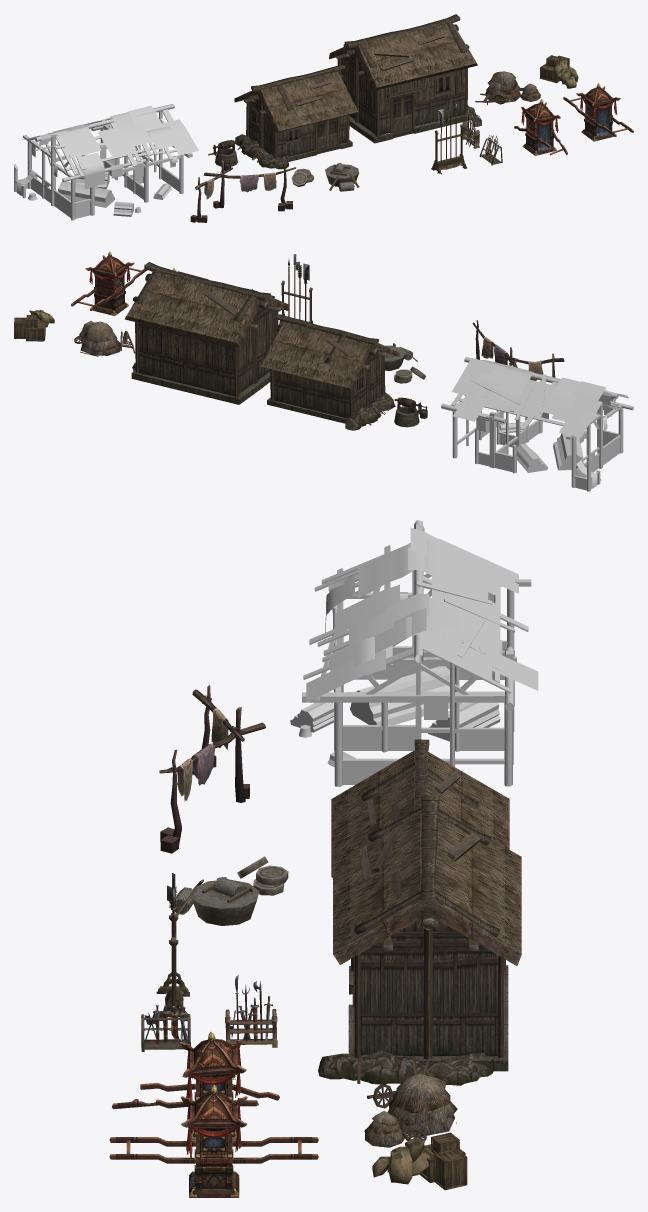
The model's file is pve_wujianA.FBX.
3 renders of one model, top to bottom at view 1: azimuth 30°, elevation 25°; view 2: azimuth 150°, elevation 25°; view 3: azimuth 270°, elevation 25°, orthographic. The views are drawn at different scales.
Visible parts, largest first — view 1: s7_maocaofang_b, s7_3d_jianzhuB, s7_maocaofang_a, s7_fightpve_jiaozi01|_a, s7_fightpve_yijia1, s7_fightpve_jiaozi01|_a01, caotu, shimo, wuqijiaA, s7_maocaofang_d, s7_fightpve_shuijing, wuqijiaC (+1 smaller); view 2: s7_maocaofang_b, s7_3d_jianzhuB, s7_maocaofang_a, s7_fightpve_jiaozi01|_a, caotu, s7_fightpve_yijia1, s7_maocaofang_d, wuqijiaA, shimo, s7_fightpve_shuijing; view 3: s7_maocaofang_b, s7_3d_jianzhuB, s7_maocaofang_a, s7_fightpve_jiaozi01|_a, caotu, s7_fightpve_yijia1, s7_fightpve_jiaozi01|_a01, shimo, s7_maocaofang_d, wuqijiaC, wuqijiaB, wuqijiaA.
Part boxes in pixels (left/top/right/bottom): s7_maocaofang_b: left=329, top=14, right=481, bottom=143; s7_3d_jianzhuB: left=14, top=104, right=198, bottom=220; s7_maocaofang_a: left=234, top=64, right=358, bottom=169; s7_fightpve_jiaozi01|_a: left=563, top=83, right=633, bottom=141; s7_fightpve_yijia1: left=190, top=159, right=295, bottom=222; s7_fightpve_jiaozi01|_a01: left=514, top=99, right=567, bottom=155; caotu: left=475, top=71, right=540, bottom=104; shimo: left=291, top=163, right=359, bottom=191; wuqijiaA: left=431, top=100, right=467, bottom=174; s7_maocaofang_d: left=540, top=55, right=578, bottom=88; s7_fightpve_shuijing: left=208, top=140, right=237, bottom=170; wuqijiaC: left=462, top=110, right=479, bottom=148; s7_maocaofang_b: left=125, top=262, right=288, bottom=404; s7_3d_jianzhuB: left=441, top=357, right=633, bottom=491; s7_maocaofang_a: left=260, top=314, right=397, bottom=430; s7_fightpve_jiaozi01|_a: left=71, top=251, right=147, bottom=315; caotu: left=74, top=321, right=135, bottom=356; s7_fightpve_yijia1: left=472, top=320, right=564, bottom=380; s7_maocaofang_d: left=14, top=310, right=54, bottom=341; wuqijiaA: left=279, top=254, right=313, bottom=324; shimo: left=384, top=343, right=425, bottom=383; s7_fightpve_shuijing: left=394, top=397, right=427, bottom=427; s7_maocaofang_b: left=318, top=795, right=521, bottom=1085; s7_3d_jianzhuB: left=290, top=520, right=538, bottom=786; s7_maocaofang_a: left=331, top=739, right=509, bottom=877; s7_fightpve_jiaozi01|_a: left=109, top=1084, right=318, bottom=1197; caotu: left=364, top=1074, right=457, bottom=1147; s7_fightpve_yijia1: left=159, top=684, right=265, bottom=853; s7_fightpve_jiaozi01|_a01: left=112, top=1032, right=279, bottom=1140; shimo: left=175, top=856, right=288, bottom=925; s7_maocaofang_d: left=372, top=1132, right=467, bottom=1190; wuqijiaC: left=225, top=975, right=277, bottom=1047; wuqijiaB: left=141, top=1004, right=190, bottom=1051; wuqijiaA: left=156, top=873, right=189, bottom=1020.
Size of the model in its own units: 27.93 by 4.96 by 9.56.
